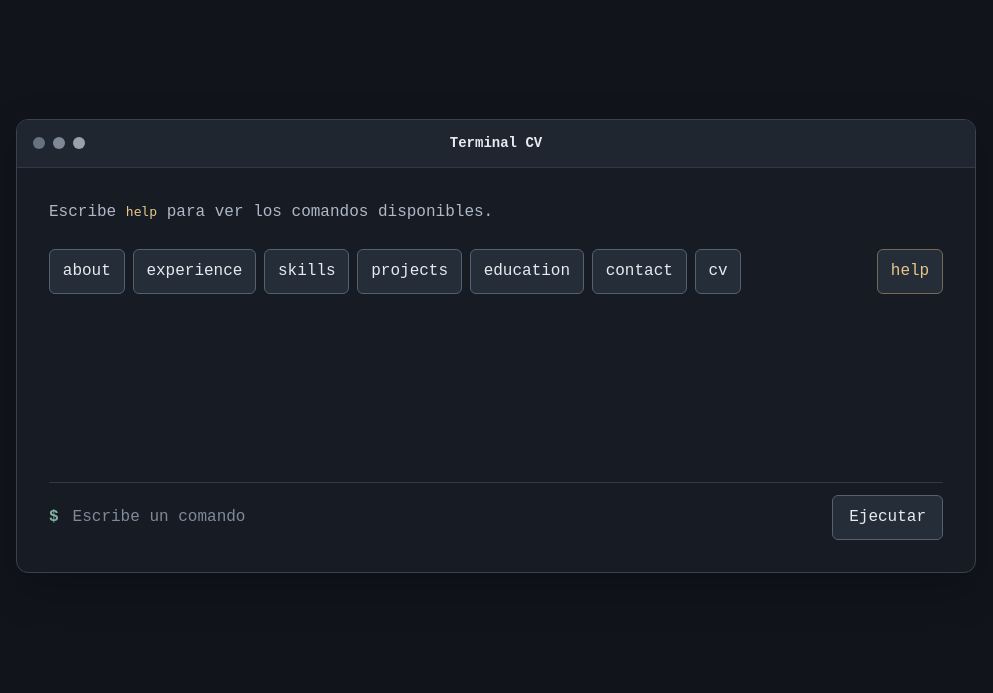
Terminal › runs quick access through the same history-aware flow
Click the button "skills": [307, 272] box [264,249,349,294]
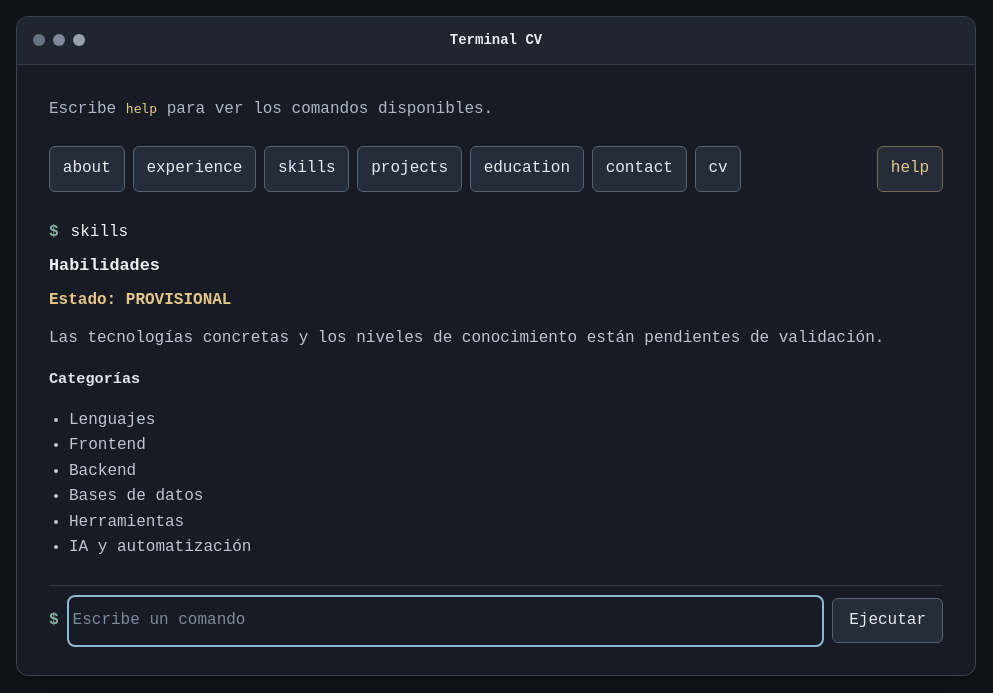
Result: the heading "Habilidades" is shown at [49,256,160,275]
Press Arrowup
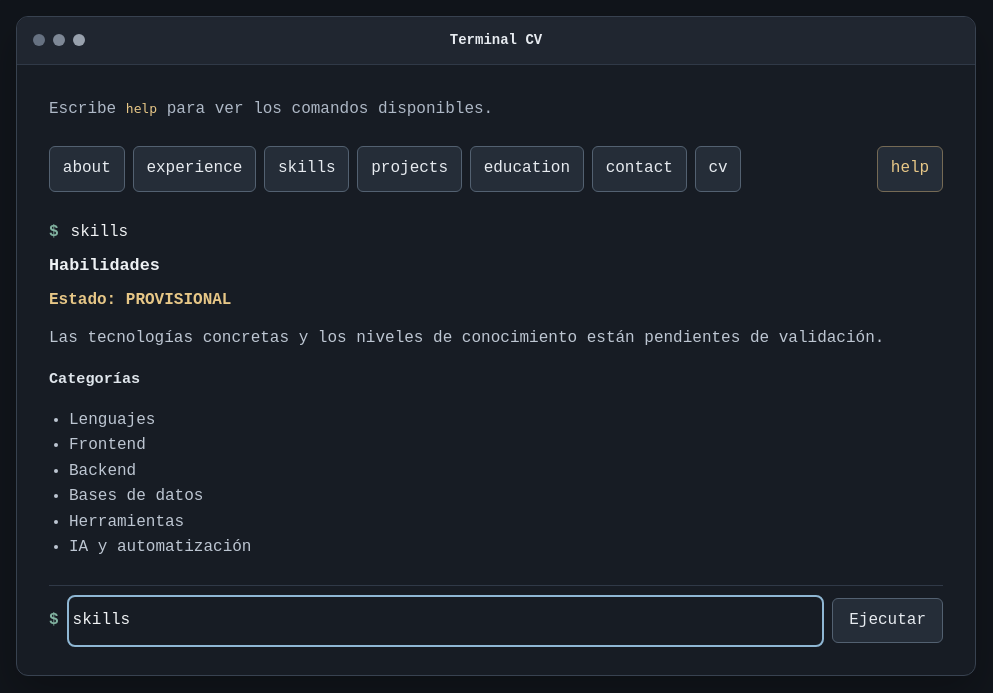
Result: the field named "Escribe un comando" holds "skills" at [71,599,820,643]
